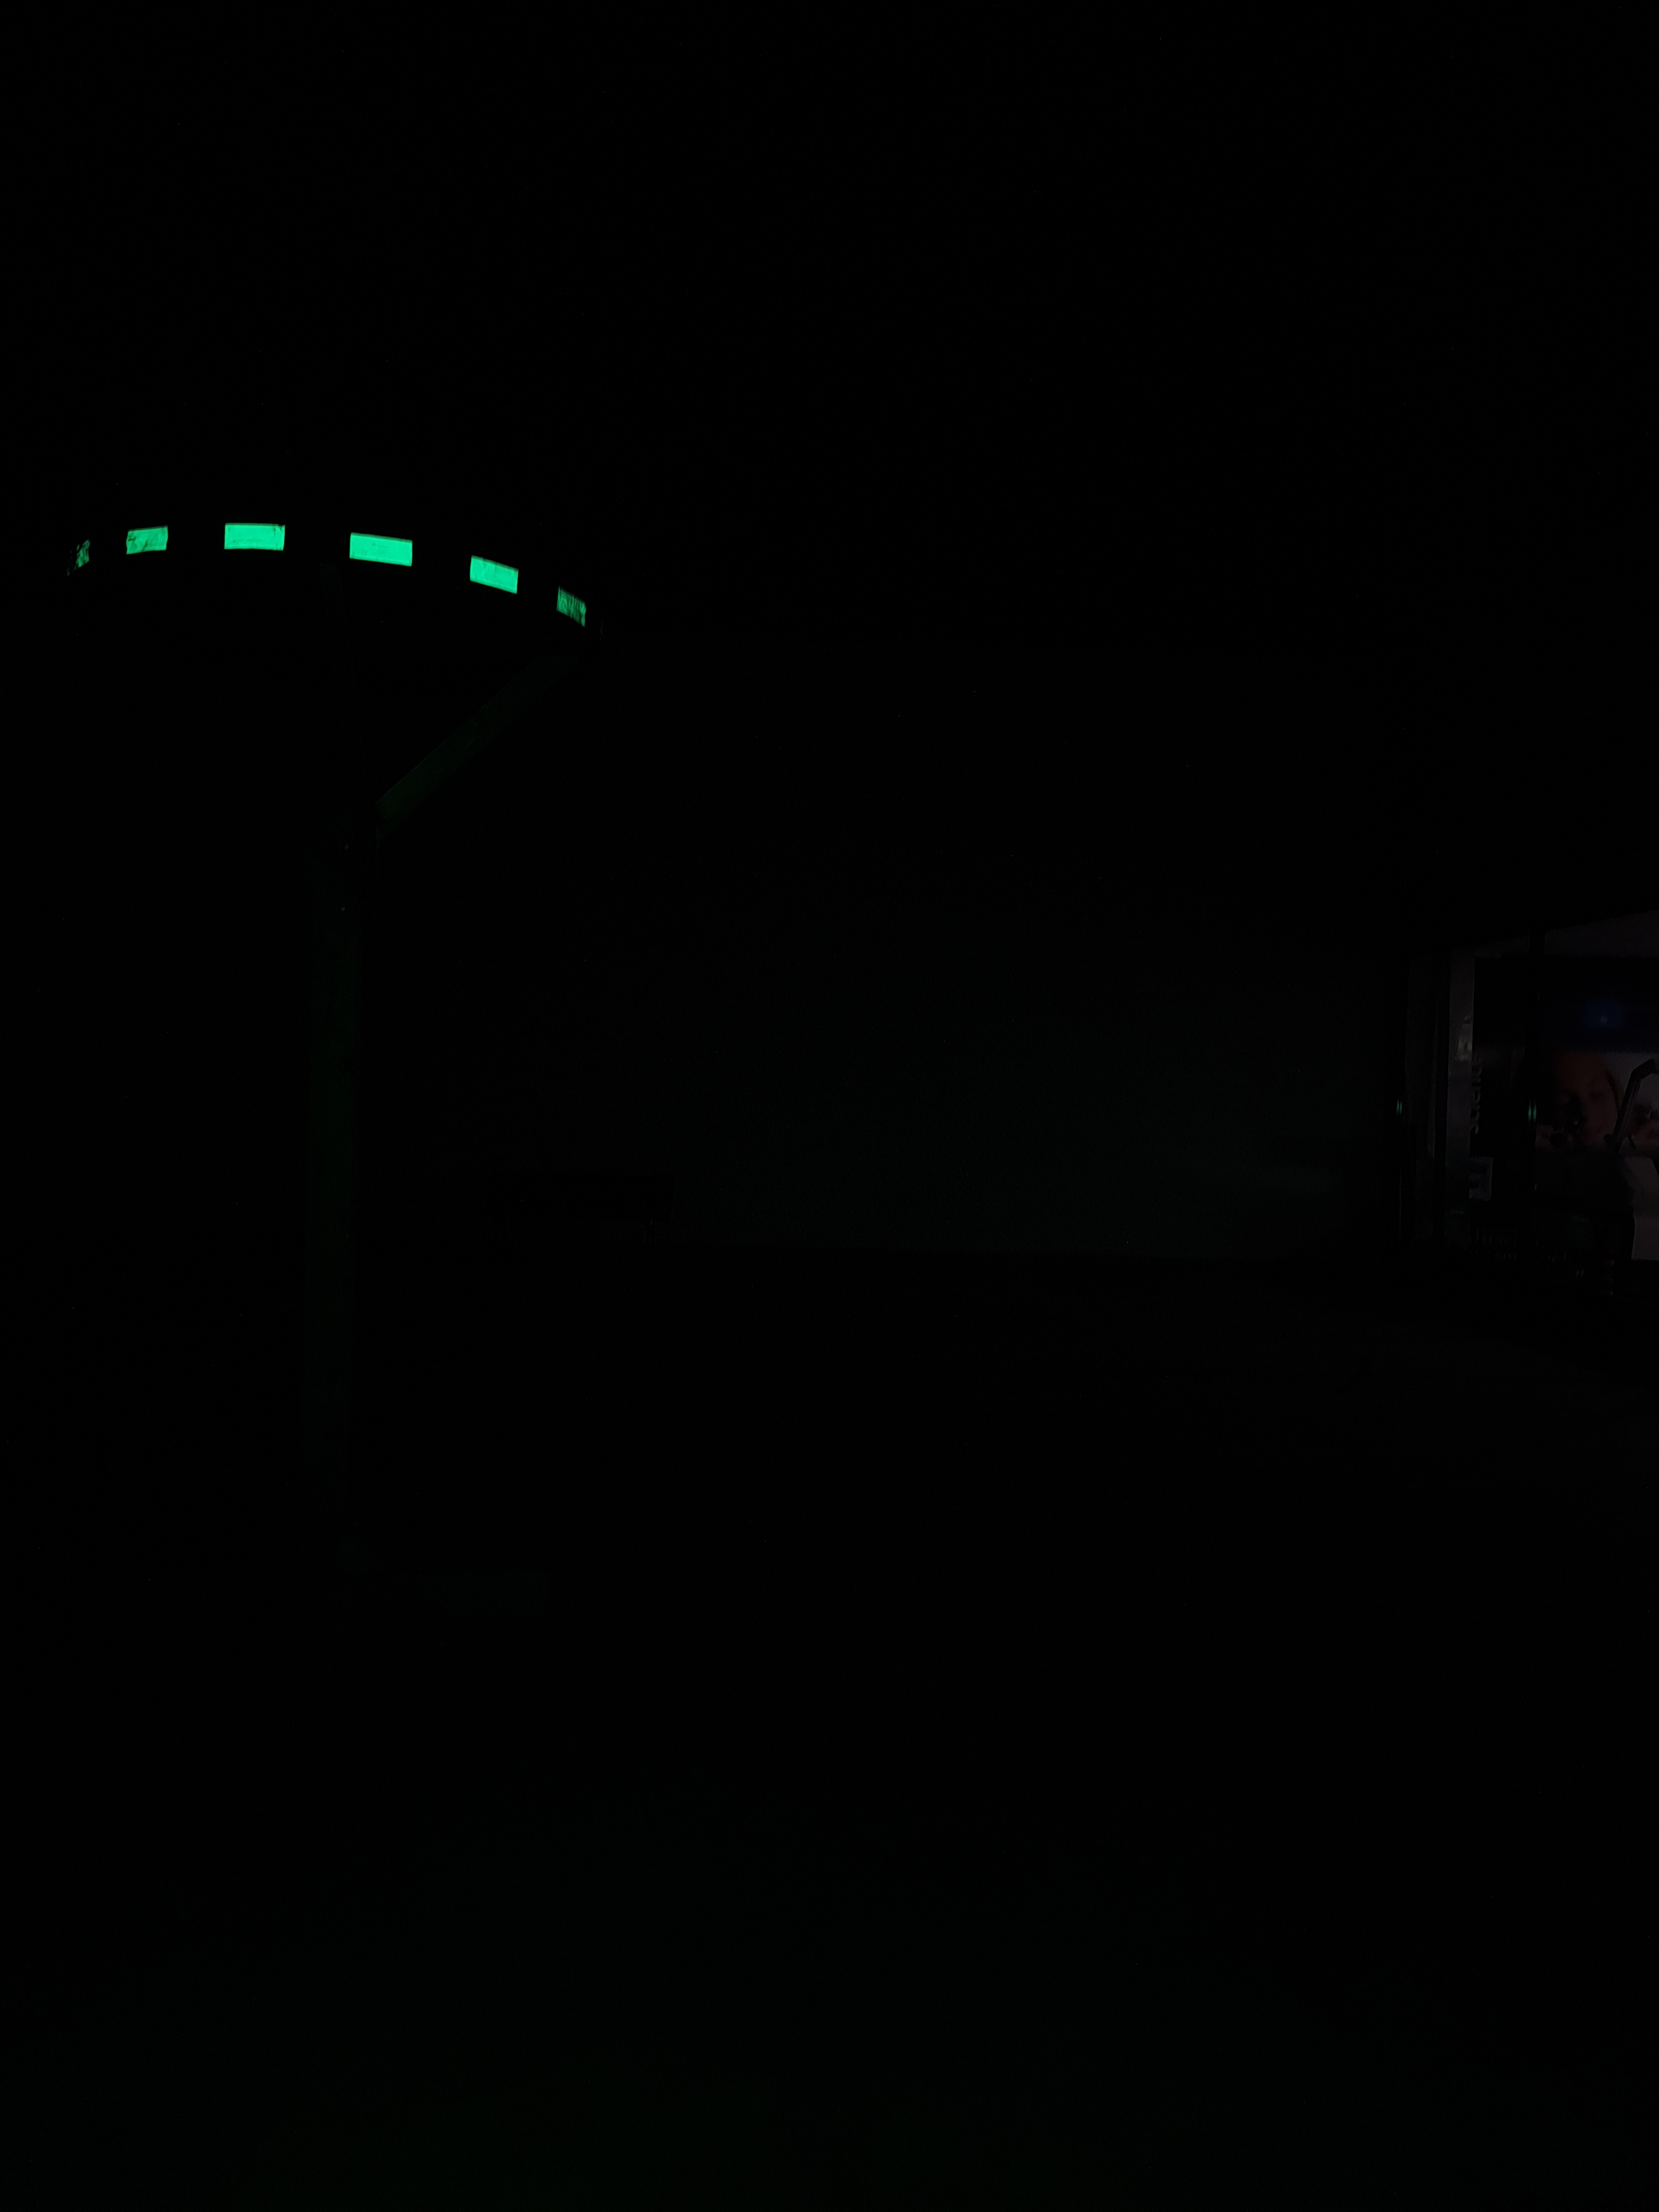hoop: (66, 514, 596, 632)
